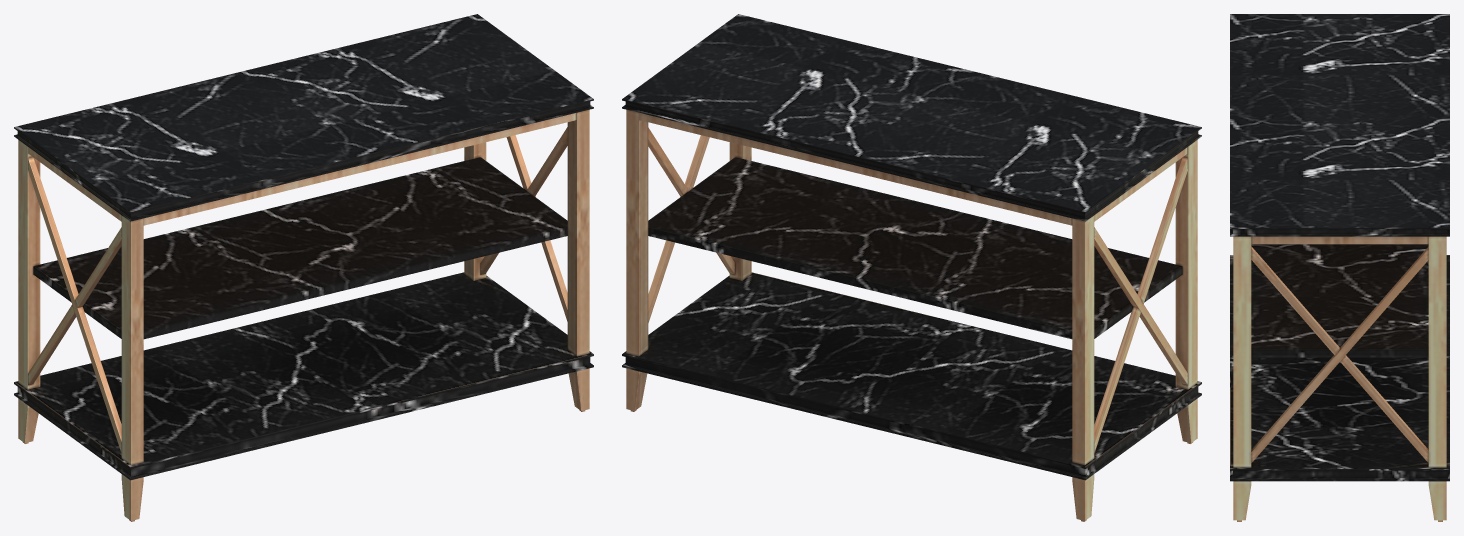
The model's file is sannois_console_table.fbx.
3 renders of one model, left to right at view 1: azimuth 30°, elevation 25°; view 2: azimuth 150°, elevation 25°; view 3: azimuth 270°, elevation 25°, orthographic. The views are drawn at different scales.
Visible parts, largest first — view 1: Sannois Console Table; view 2: Sannois Console Table; view 3: Sannois Console Table.
Part boxes in pixels (<box>): Sannois Console Table: <box>14,14,593,521</box>; Sannois Console Table: <box>622,14,1201,521</box>; Sannois Console Table: <box>1230,14,1449,521</box>.
Size of the model in its own units: 1.38 by 0.8946 by 0.6015.
